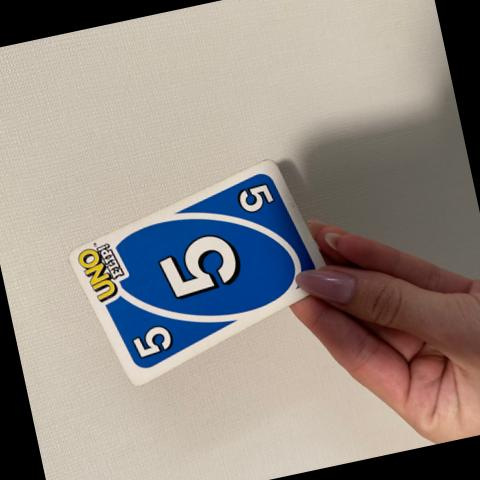lblue-5: (118, 306, 186, 367)
